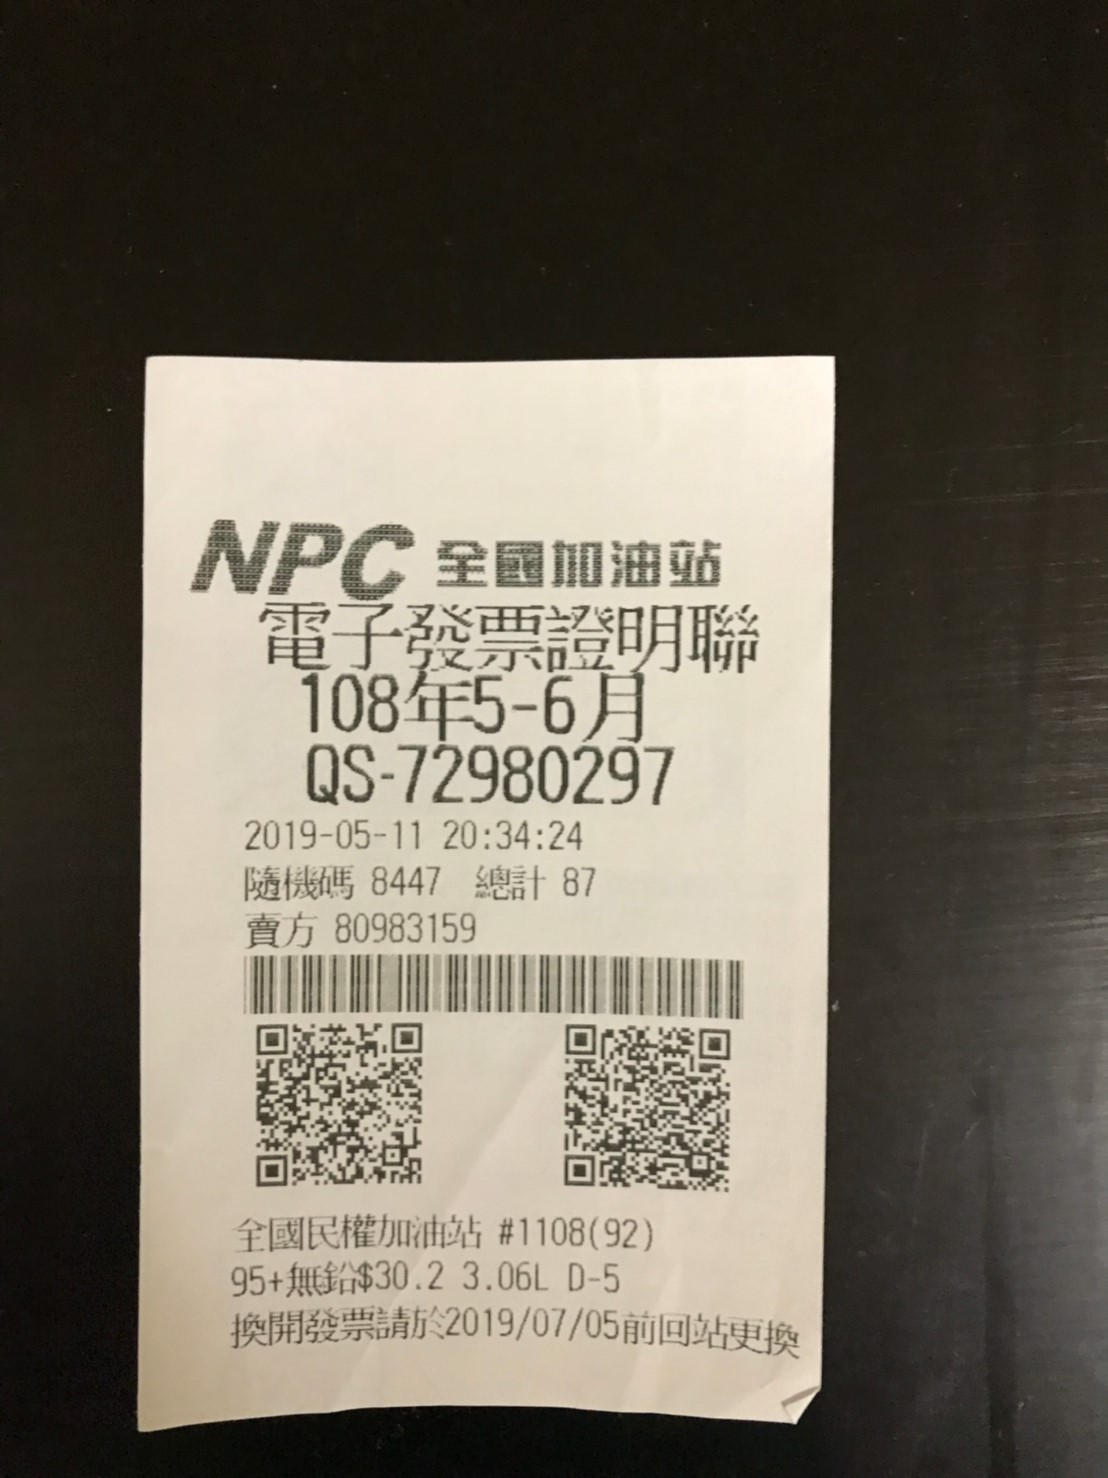Date_New: (300, 667, 649, 748)
Number_New: (393, 736, 679, 806)
